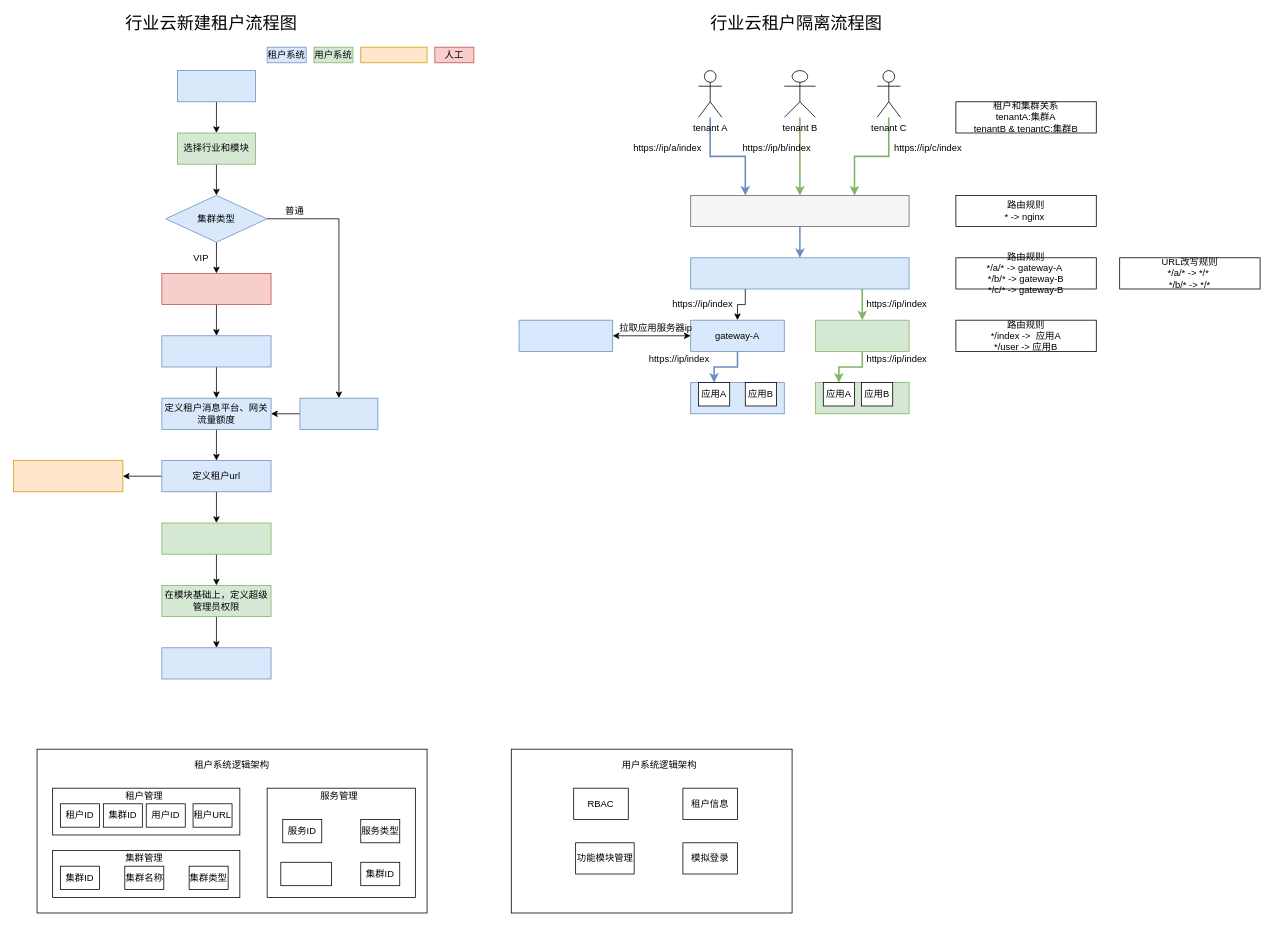
The diagram is 1274 pixels wide and 927 high, and some of its shapes have lost their labels. The shapes that lost their labels are listed below. From the top down, each one's centre as x and y in pixels, then its label:
At pixel 393 54: "nginx集群管理".
At pixel 216 86: "新增租户".
At pixel 799 211: "aliyun ALB".
At pixel 216 289: "申请nginx、gateway、nacos、应用服务器资源".
At pixel 799 273: "nginx".
At pixel 216 351: "新增集群信息，同时关联租户".
At pixel 565 335: "nacos-A".
At pixel 862 335: "gateway-B".
At pixel 338 413: "新增租户和集群关联关系".
At pixel 68 476: "改写nginx规则".
At pixel 216 538: "创建超级管理员用户".
At pixel 216 663: "租户信息展示".
At pixel 306 874: "服务IP列表".
